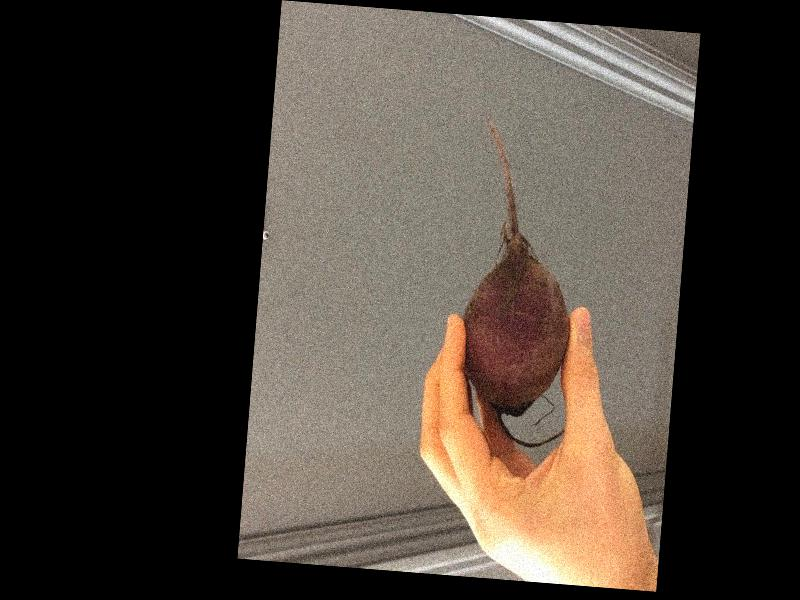Beet: (456, 111, 588, 447)
